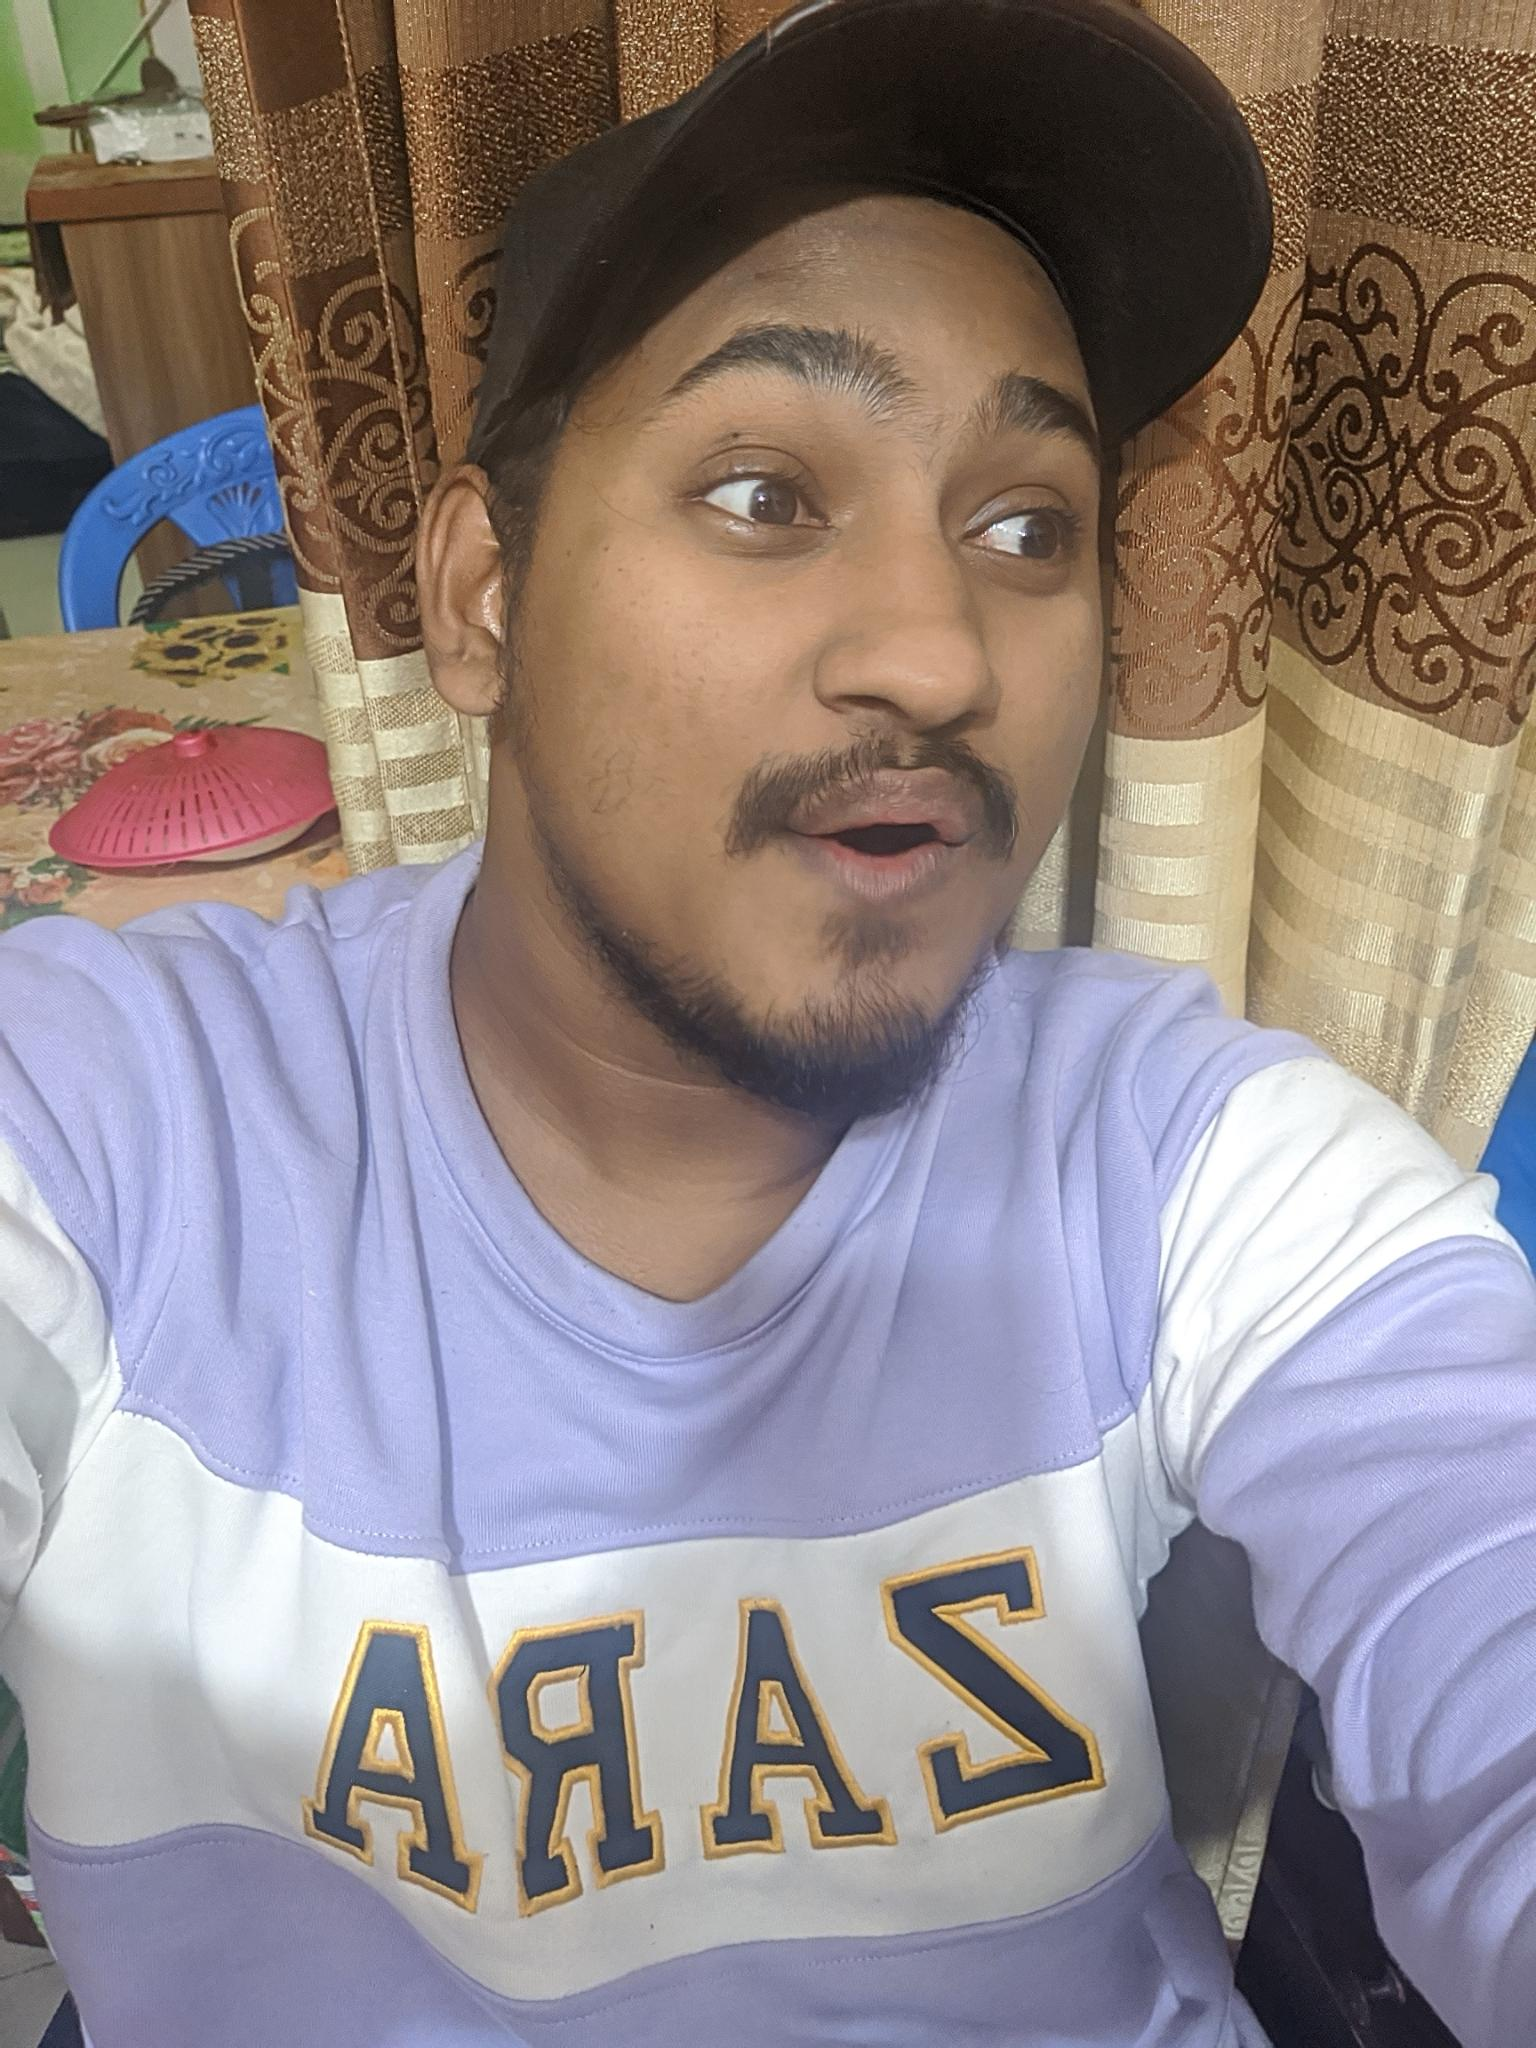Surprise: (565, 276, 1120, 1084)
